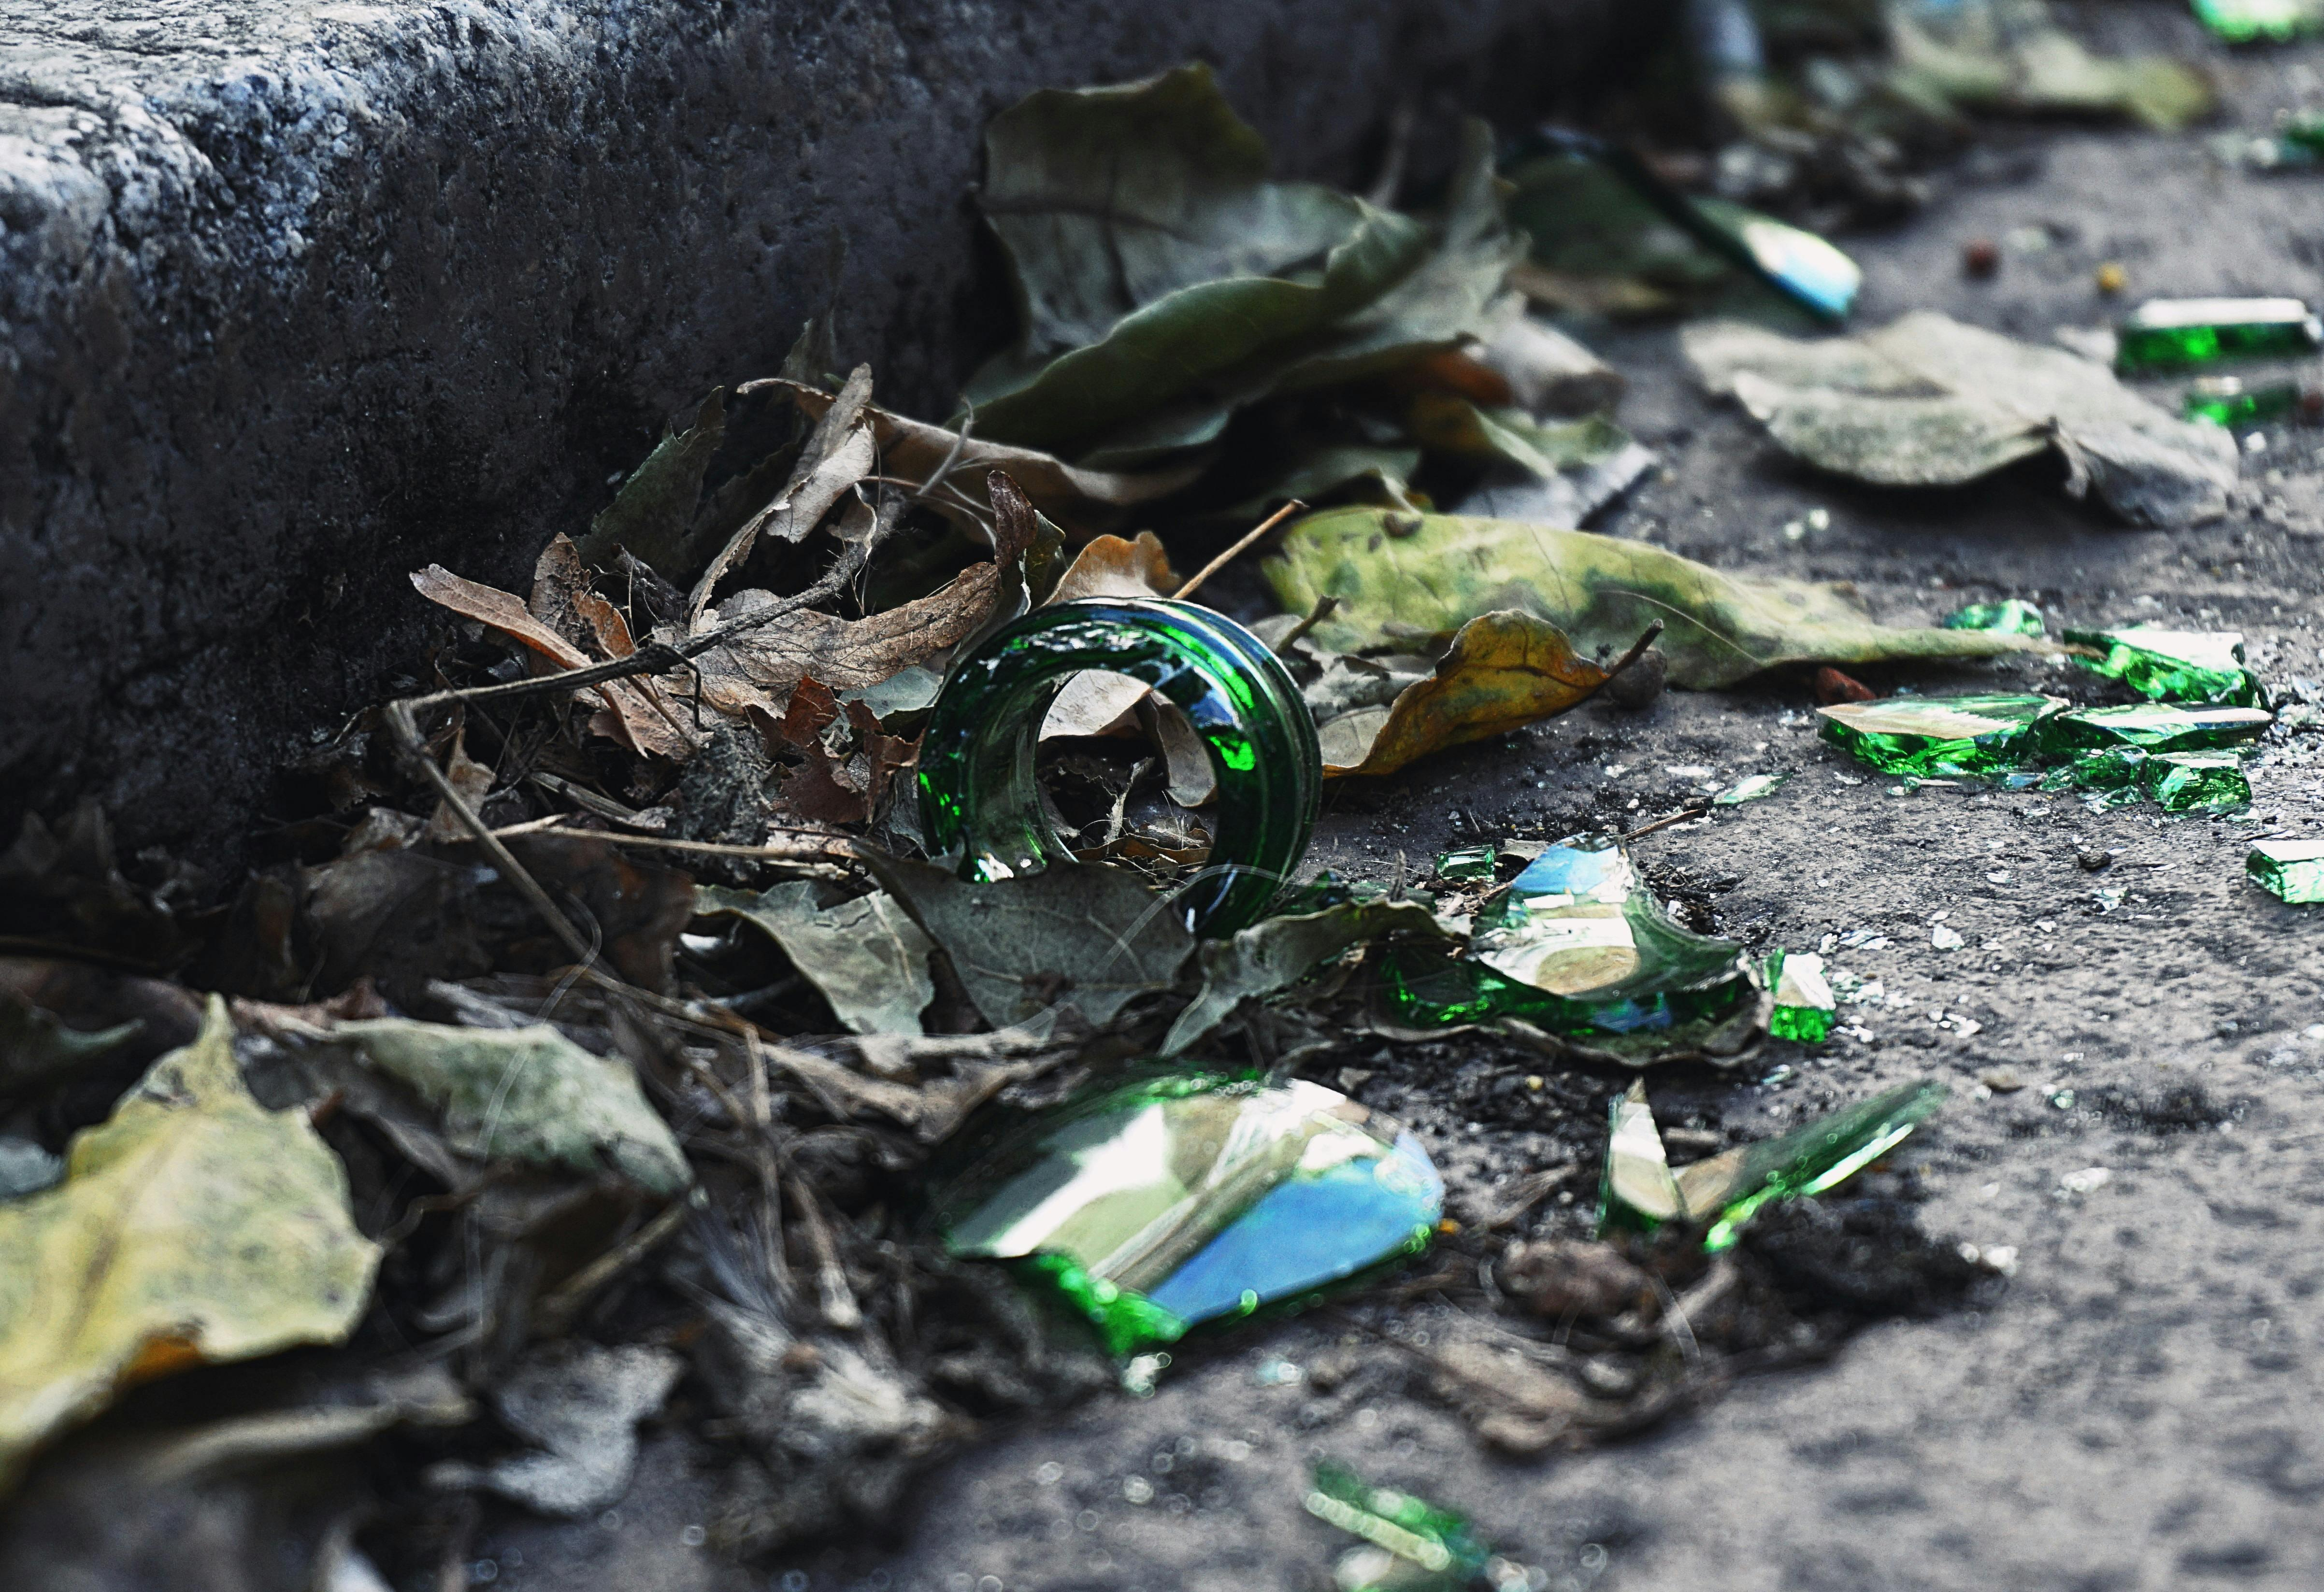glass: (938, 1052, 1418, 1371), (909, 597, 1291, 937), (1649, 184, 1838, 328), (2105, 295, 2324, 371), (2170, 378, 2322, 432), (2241, 838, 2324, 904)
